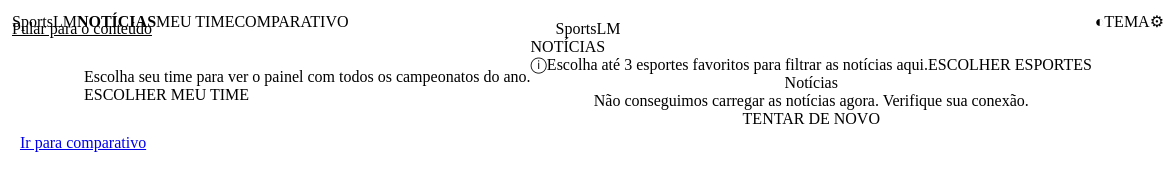
Test: Rotas (FUND-04 — shell da SPA) › navega de fato entre rotas ao clicar num link (não só troca de props)
Expected: the heading "Notícias" is shown, [530,38,605,56]
Click the link "Ir para comparativo": click(83, 142) [20,134,146,151]
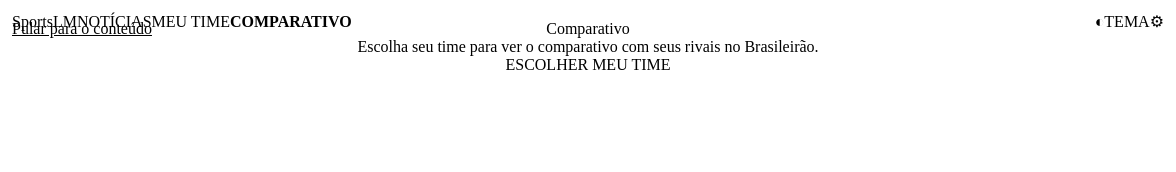
Expected: the button "ESCOLHER MEU TIME" is shown, [506,56,670,74]
